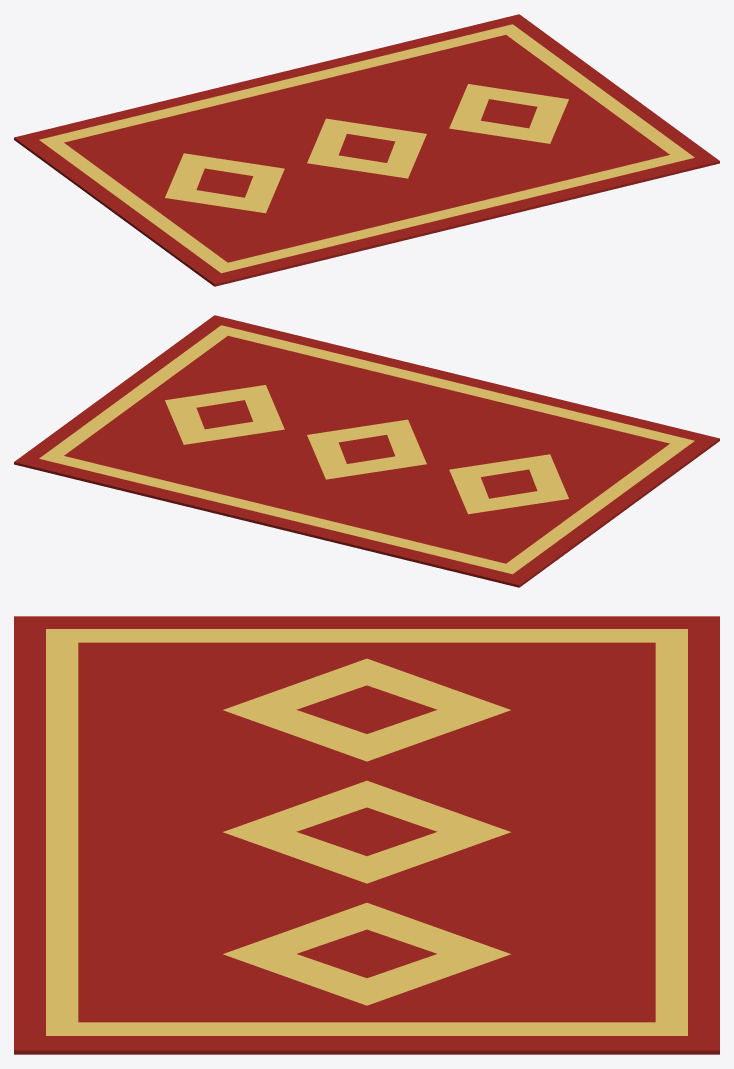
Rendered from Interior_Shyrdak.obj.
3 views of the same model, one above another, from view 1: azimuth 30°, elevation 25°; view 2: azimuth 150°, elevation 25°; view 3: azimuth 270°, elevation 25° (orthographic). The views are drawn at different scales.
Visible parts, largest first — view 1: Interior_Shyrdak; view 2: Interior_Shyrdak; view 3: Interior_Shyrdak.
Boxes of the visible parts, x1=… form: Interior_Shyrdak: x1=14, y1=14, x2=719, y2=286; Interior_Shyrdak: x1=14, y1=315, x2=719, y2=587; Interior_Shyrdak: x1=14, y1=616, x2=719, y2=1054.
Bounding box in the file's own units: 3.2 × 0.02 × 2.2.
